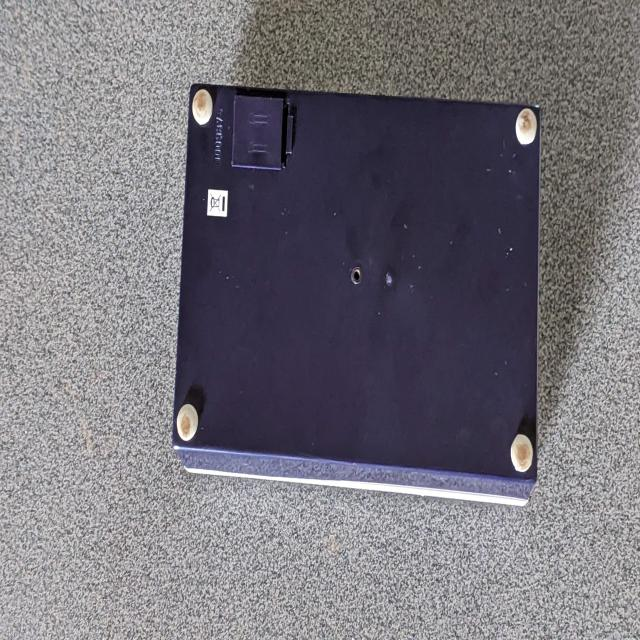Analog Multimeter: (169, 72, 544, 537)
